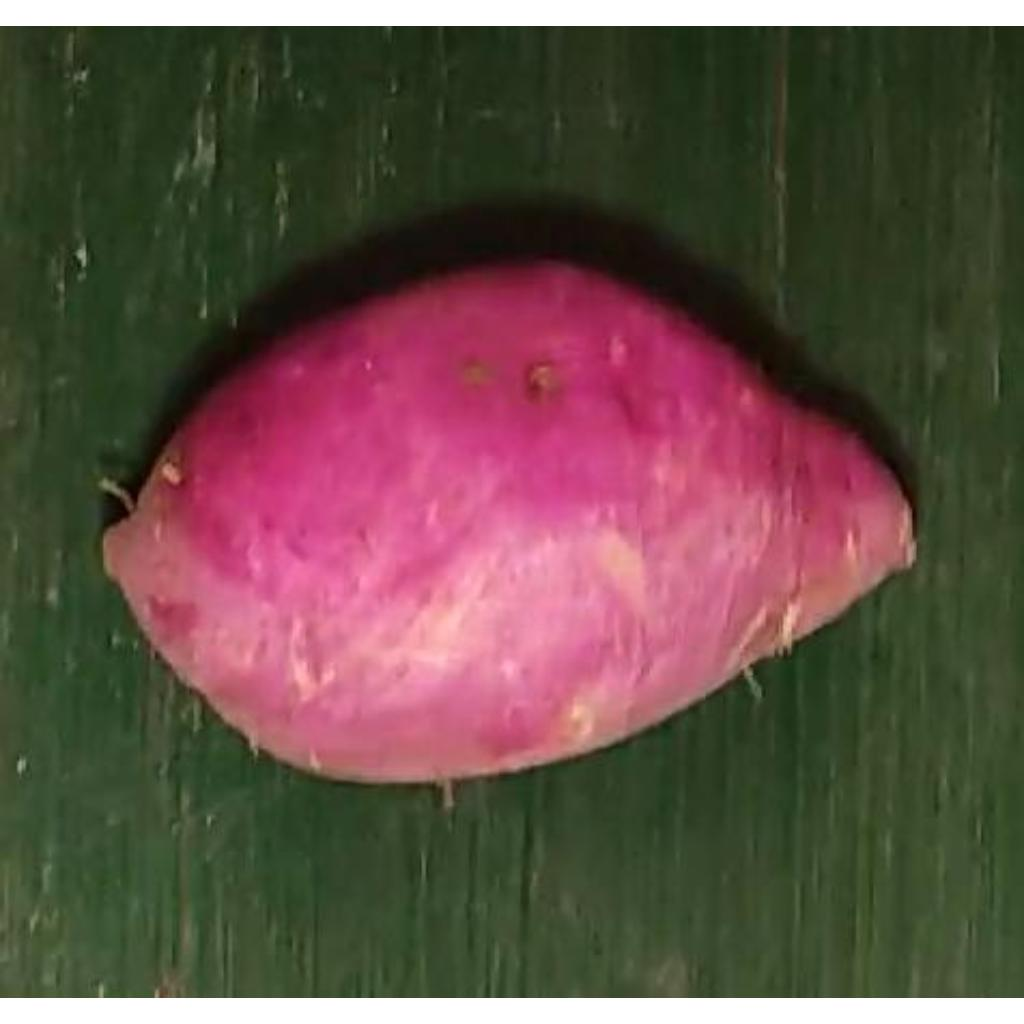Sweet Potato: (103, 260, 910, 790)
